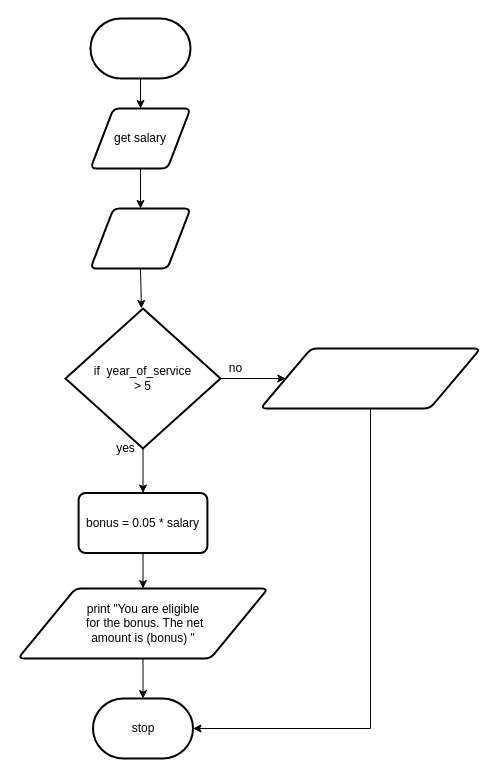
Some shapes in this 499 by 776 pixel diagram are drawn without their labels. Here are the shapes that lost their labels. From the top down, the centre of each, then its label:
[140,48]: start
[140,238]: get year of service
[370,378]: print "You are not eligible for the bonus"
